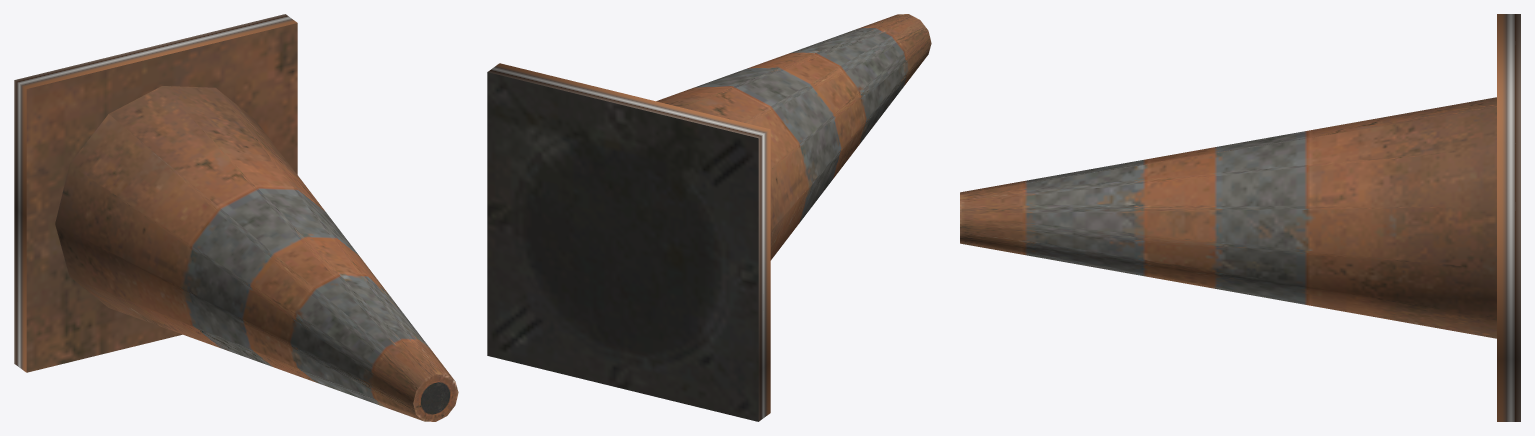
Rendered from p_us_parkingcone_LOD1.obj.
The picture shows the model from 3 angles, left to right: view 1: azimuth 30°, elevation 25°; view 2: azimuth 150°, elevation 25°; view 3: azimuth 270°, elevation 25°; orthographic projection.
Visible parts, largest first — view 1: mtl_p_us_parkingcone; view 2: mtl_p_us_parkingcone; view 3: mtl_p_us_parkingcone.
Part boxes in pixels (<box>): mtl_p_us_parkingcone: <box>14,14,458,421</box>; mtl_p_us_parkingcone: <box>487,14,931,421</box>; mtl_p_us_parkingcone: <box>960,14,1520,421</box>.
Size of the model in its own units: 38.4 by 38.4 by 70.15.
